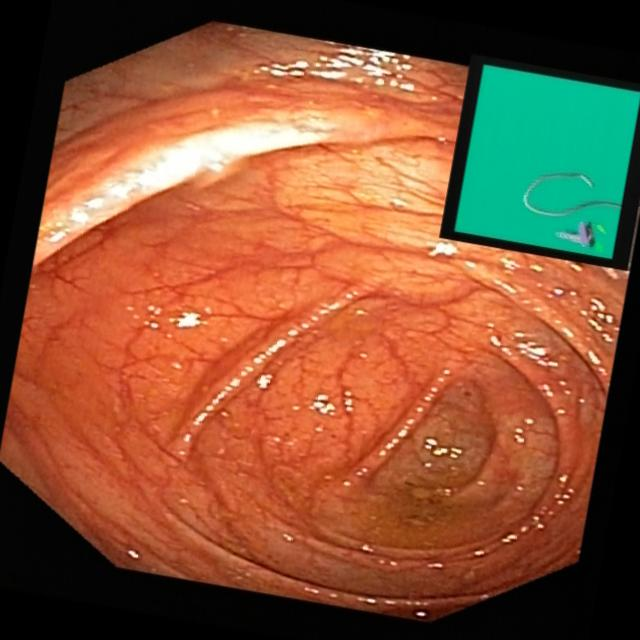normal-cecum: (359, 380, 541, 563)
